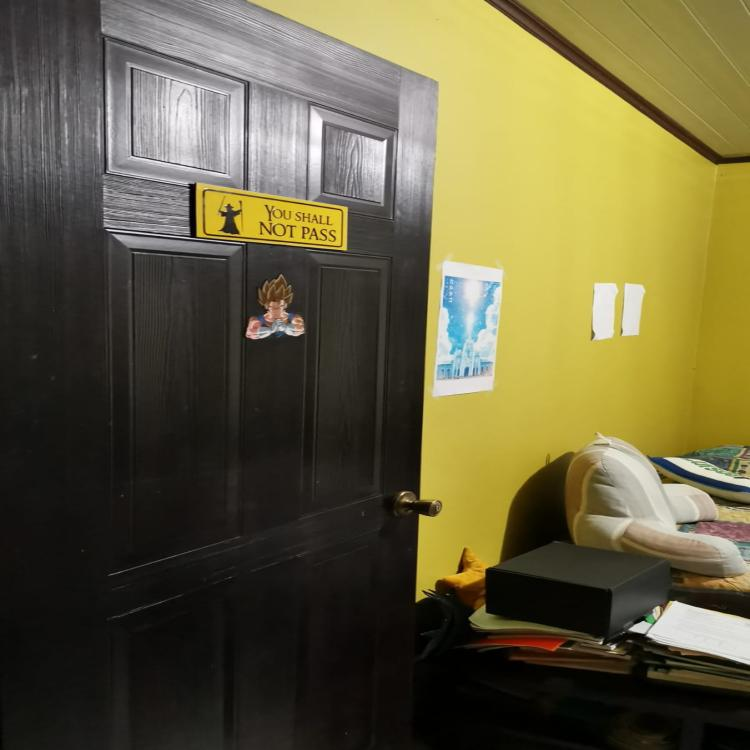ClosedDoor: (0, 0, 448, 750)
